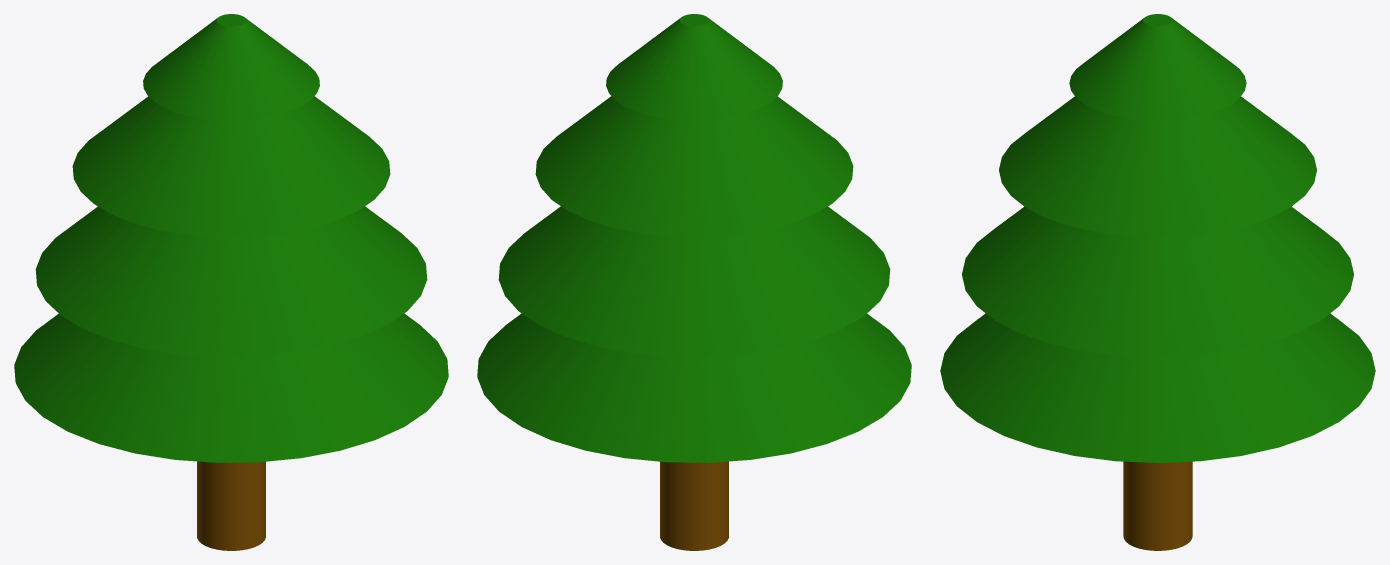
File: Tree.gltf
3 renders of one model, left to right at view 1: azimuth 30°, elevation 25°; view 2: azimuth 150°, elevation 25°; view 3: azimuth 270°, elevation 25°, orthographic.
Parts seen in each view (by area): view 1: Cylinder; view 2: Cylinder; view 3: Cylinder.
Boxes of the visible parts, x1,y1,x2,y2 form: Cylinder: [14, 14, 448, 550]; Cylinder: [477, 14, 911, 550]; Cylinder: [940, 14, 1375, 550].
Bounding box in the file's own units: 0.9516 × 1.24 × 0.9516.
